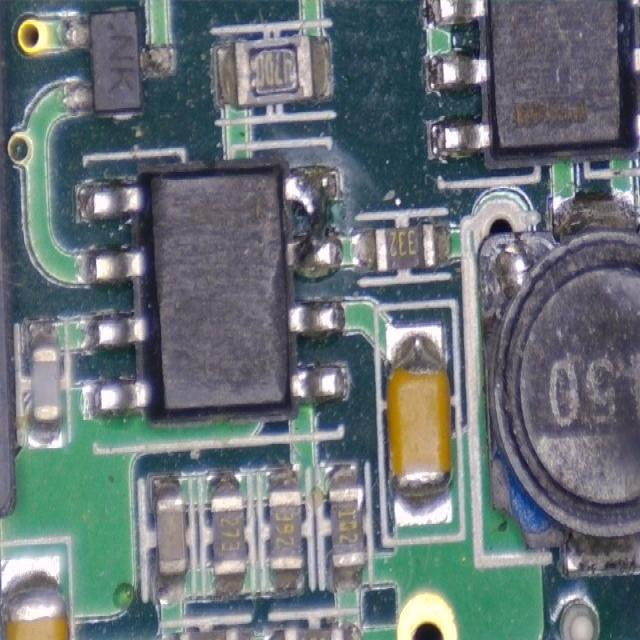Short_circuit: (284, 166, 342, 277)
